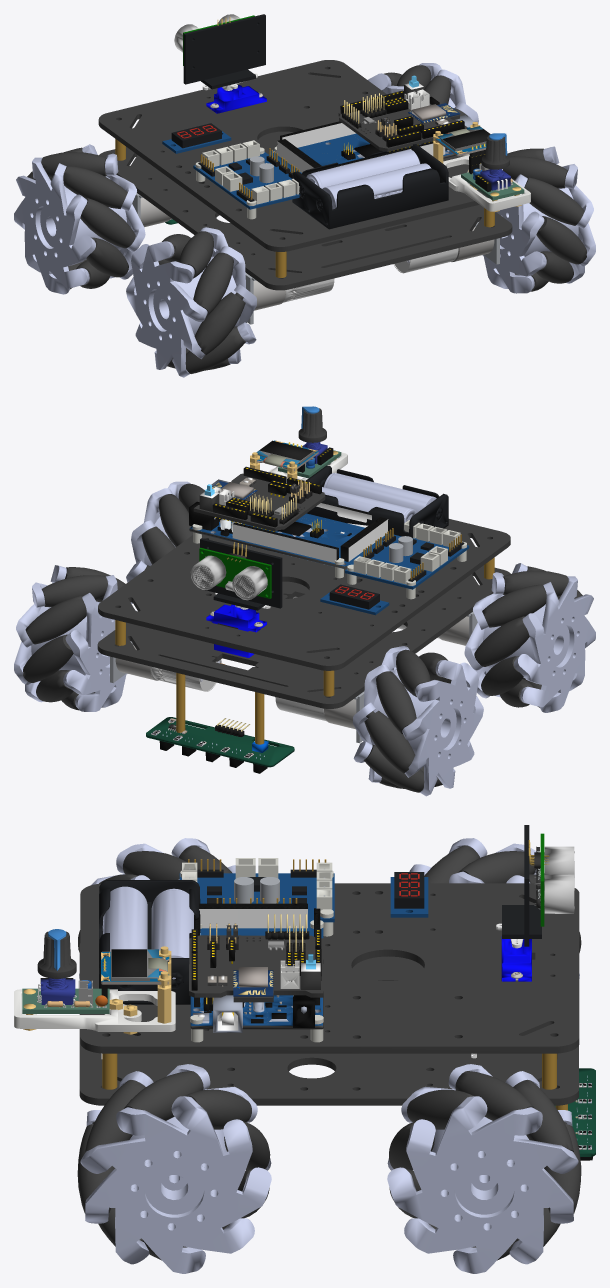
File: AutoFinalRobo2.glb
3 renders of one model, top to bottom at view 1: azimuth 30°, elevation 25°; view 2: azimuth 150°, elevation 25°; view 3: azimuth 270°, elevation 25°, orthographic. The views are drawn at different scales.
Parts seen in each view (by area): view 1: AFR2_CapaSuperior.001, AFR2_Rueda80_ManoB:2.001, AFR2_Rueda80_ManoA:1.001, AFR2_CapaInferior.001, AFR2_Rueda80_ManoA:2.001, AFR2_Portabaterias_SinCableExterior:1.001, AFR2_OSOYOOWifiShield:1.001, AFR2_AFR2_UI_B2_Fondo_OLED15_Auto5:1, AFR2_Soporte_HCSR04_Referencia:1.001, AFR2_OSOYOOMotorDriver_ModelY_V2:1.001, AFR2_Mega2560_CAD:1.001, AFR2_Rueda80_ManoB:1.001 (+10 smaller); view 2: AFR2_CapaSuperior.001, AFR2_Rueda80_ManoA:1.001, AFR2_Rueda80_ManoB:2.001, AFR2_CapaInferior.001, AFR2_Rueda80_ManoB:1.001, AFR2_Mega2560_CAD:1.001, AFR2_OSOYOOWifiShield:1.001, AFR2_OSOYOOMotorDriver_ModelY_V2:1.001, AFR2_SensorLinea_5IR:1.001, AFR2_Rueda80_ManoA:2.001, AFR2_AFR2_UI_B2_Fondo_OLED15_Auto5:1, AFR2_HC_SR04:1.001 (+12 smaller); view 3: AFR2_CapaSuperior.001, AFR2_Rueda80_ManoB:1.001, AFR2_Rueda80_ManoA:2.001, AFR2_CapaInferior.001, AFR2_AFR2_UI_B2_Fondo_OLED15_Auto5:1, AFR2_OSOYOOWifiShield:1.001, AFR2_Mega2560_CAD:1.001, AFR2_OSOYOOMotorDriver_ModelY_V2:1.001, AFR2_Rueda80_ManoA:1.001, AFR2_Portabaterias_SinCableExterior:1.001, AFR2_Rueda80_ManoB:2.001, AFR2_HC_SR04:1.001 (+8 smaller).
Part boxes in pixels (x1,y1,x2,y2): AFR2_CapaSuperior.001: (98,60,488,251); AFR2_Rueda80_ManoB:2.001: (126,227,256,377); AFR2_Rueda80_ManoA:1.001: (14,144,145,294); AFR2_CapaInferior.001: (99,131,512,290); AFR2_Rueda80_ManoA:2.001: (482,146,595,293); AFR2_Portabaterias_SinCableExterior:1.001: (292,144,448,229); AFR2_OSOYOOWifiShield:1.001: (338,75,467,152); AFR2_AFR2_UI_B2_Fondo_OLED15_Auto5:1: (433,122,530,212); AFR2_Soporte_HCSR04_Referencia:1.001: (183,14,265,89); AFR2_OSOYOOMotorDriver_ModelY_V2:1.001: (193,140,299,209); AFR2_Mega2560_CAD:1.001: (269,96,474,173); AFR2_Rueda80_ManoB:1.001: (368,63,478,124); AFR2_CapaSuperior.001: (98,519,510,670); AFR2_Rueda80_ManoA:1.001: (353,646,483,796); AFR2_Rueda80_ManoB:2.001: (464,563,595,712); AFR2_CapaInferior.001: (97,565,510,708); AFR2_Rueda80_ManoB:1.001: (14,565,136,711); AFR2_Mega2560_CAD:1.001: (189,479,389,568); AFR2_OSOYOOWifiShield:1.001: (193,466,325,531); AFR2_OSOYOOMotorDriver_ModelY_V2:1.001: (345,520,469,589); AFR2_SensorLinea_5IR:1.001: (146,717,294,773); AFR2_Rueda80_ManoA:2.001: (126,481,204,582); AFR2_AFR2_UI_B2_Fondo_OLED15_Auto5:1: (250,406,347,482); AFR2_HC_SR04:1.001: (190,542,271,600); AFR2_CapaSuperior.001: (80,883,579,1053); AFR2_Rueda80_ManoB:1.001: (387,1064,581,1273); AFR2_Rueda80_ManoA:2.001: (77,1064,271,1273); AFR2_CapaInferior.001: (79,943,578,1105); AFR2_AFR2_UI_B2_Fondo_OLED15_Auto5:1: (14,929,175,1034); AFR2_OSOYOOWifiShield:1.001: (189,914,323,1002); AFR2_Mega2560_CAD:1.001: (190,903,323,1032); AFR2_OSOYOOMotorDriver_ModelY_V2:1.001: (179,858,334,922); AFR2_Rueda80_ManoA:1.001: (409,838,581,978); AFR2_Portabaterias_SinCableExterior:1.001: (99,880,200,1004); AFR2_Rueda80_ManoB:2.001: (78,838,235,978); AFR2_HC_SR04:1.001: (528,833,574,926).
Size of the model in its own units: 0.256 by 0.13 by 0.233.
